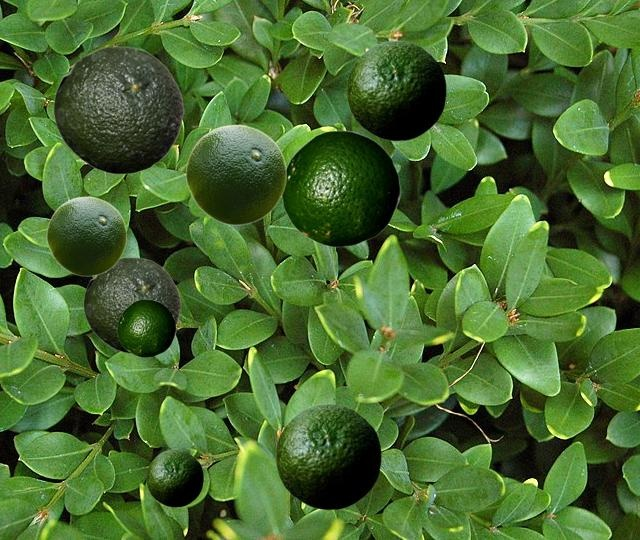calamansi: (53, 46, 183, 173), (281, 130, 400, 246), (275, 403, 380, 509), (185, 124, 286, 224), (346, 40, 445, 140), (83, 257, 180, 352), (46, 196, 126, 275), (117, 299, 175, 356), (146, 449, 202, 506)
